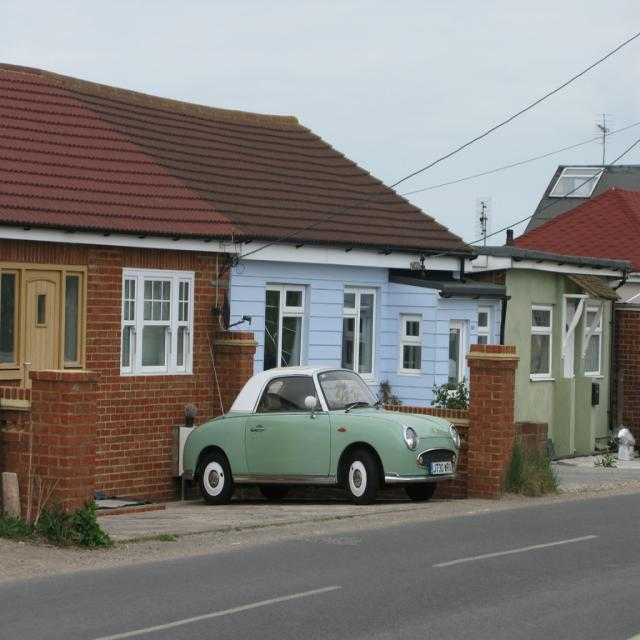car: (183, 329, 458, 503)
